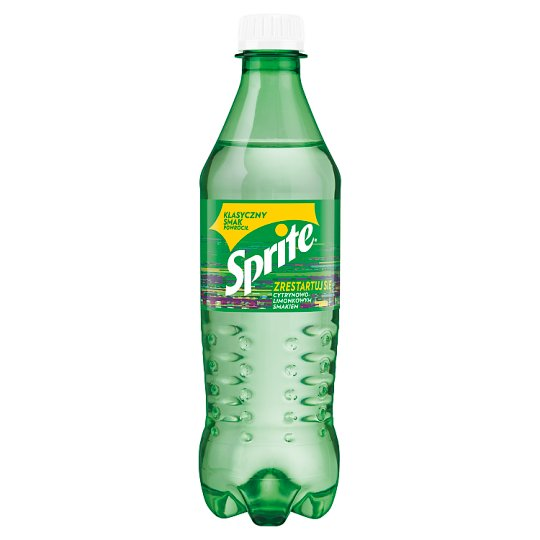Sprite: (182, 14, 358, 523)
